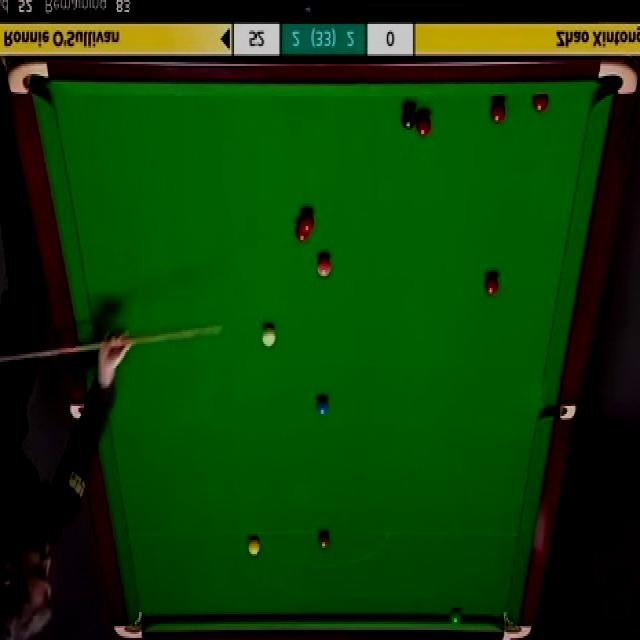pocket: (597, 58, 639, 100), (6, 58, 49, 98), (110, 610, 143, 640), (503, 610, 534, 640), (543, 400, 577, 419), (69, 401, 85, 425)
